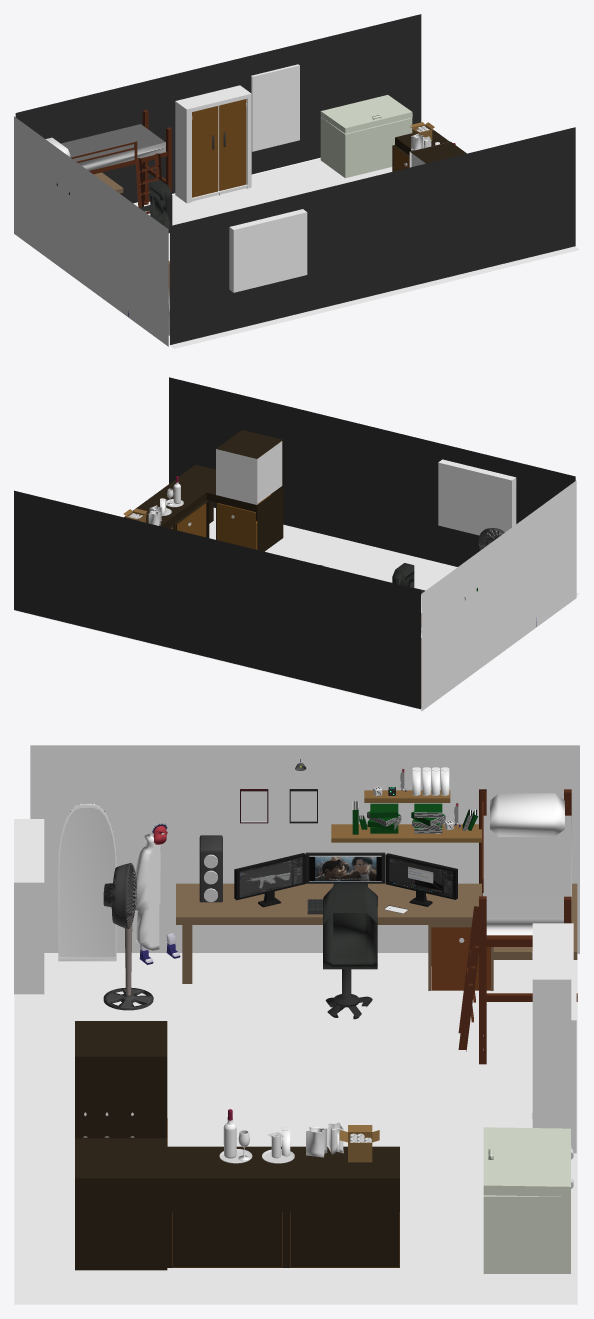
The model's file is dream room.glb.
The picture shows the model from 3 angles, top to bottom: view 1: azimuth 30°, elevation 25°; view 2: azimuth 150°, elevation 25°; view 3: azimuth 270°, elevation 25°; orthographic projection. The views are drawn at different scales.
Visible parts, largest first — view 1: Plane.018, Cube.018, CTRL_Hole, Cube.065, Cube.030, Cube.035, Cube.031, Cube.003, Cube.036, Cube.034; view 2: Plane.018, Cube.036, CTRL_Hole, Cube.052, Cube.042, Cube.010, Cube.038, Cube.034; view 3: Plane.018, Cube.036, Cube.027, Cube.035, Cube.018, Cube.071, Cube.009, Cube.030, Cube.031, Cube.034, CTRL_Hole, Cube.003 (+10 smaller).
Part boxes in pixels (box(x1,y1,x2,y2)): Plane.018: box(14, 14, 579, 348); Cube.018: box(175, 85, 251, 203); CTRL_Hole: box(229, 209, 307, 292); Cube.065: box(251, 64, 299, 151); Cube.030: box(320, 117, 412, 178); Cube.035: box(45, 124, 165, 170); Cube.031: box(320, 95, 412, 133); Cube.003: box(71, 109, 171, 213); Cube.036: box(392, 129, 466, 171); Cube.034: box(139, 180, 172, 232); Plane.018: box(14, 377, 579, 711); Cube.036: box(124, 430, 283, 551); CTRL_Hole: box(438, 459, 516, 538); Cube.052: box(216, 449, 257, 504); Cube.042: box(217, 494, 270, 549); Cube.010: box(257, 441, 282, 503); Cube.038: box(175, 503, 206, 537); Cube.034: box(392, 563, 425, 594); Plane.018: box(14, 745, 579, 1304); Cube.036: box(75, 1021, 399, 1270); Cube.027: box(176, 883, 577, 990); Cube.035: box(482, 793, 571, 935); Cube.018: box(532, 923, 573, 1146); Cube.071: box(58, 803, 116, 961); Cube.009: box(234, 852, 457, 907); Cube.030: box(483, 1195, 570, 1273); Cube.031: box(483, 1127, 570, 1196); Cube.034: box(323, 883, 377, 1019); CTRL_Hole: box(14, 819, 44, 994); Cube.003: box(458, 789, 577, 1064).
Size of the model in its own units: 37.05 by 10.67 by 25.08.
100 materials, 7 textured.
